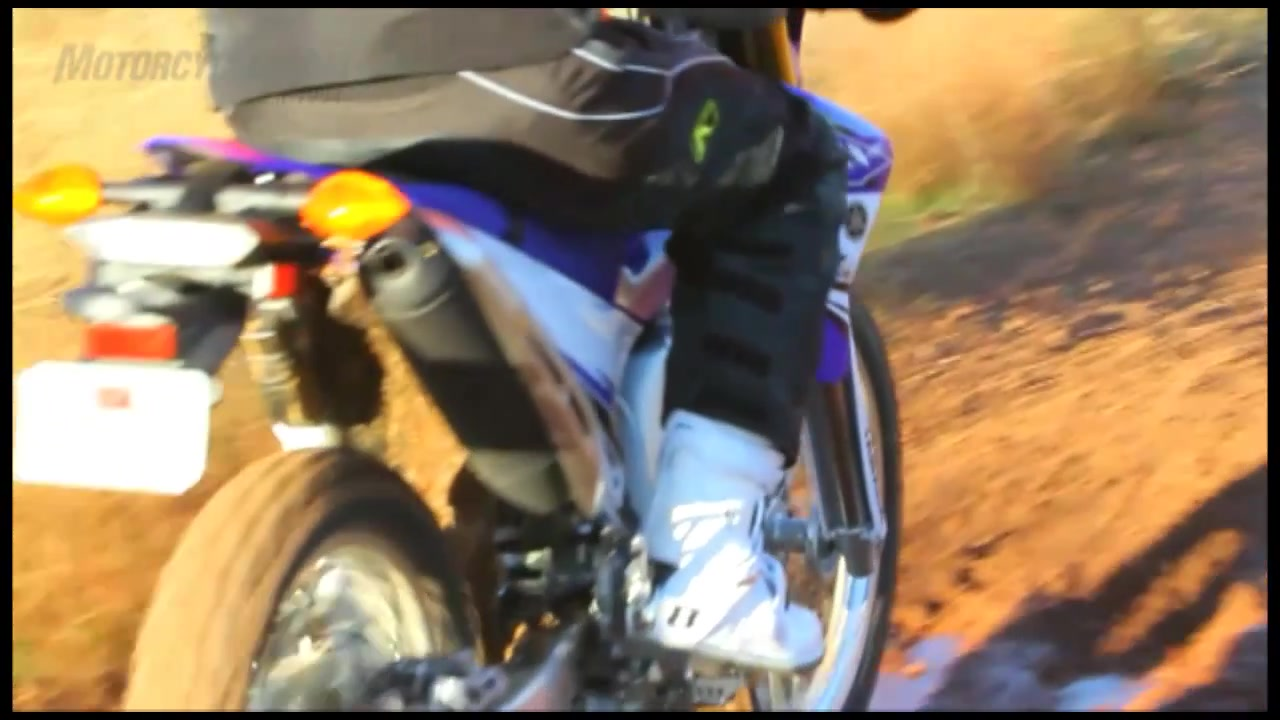motorbike: (14, 9, 908, 712)
